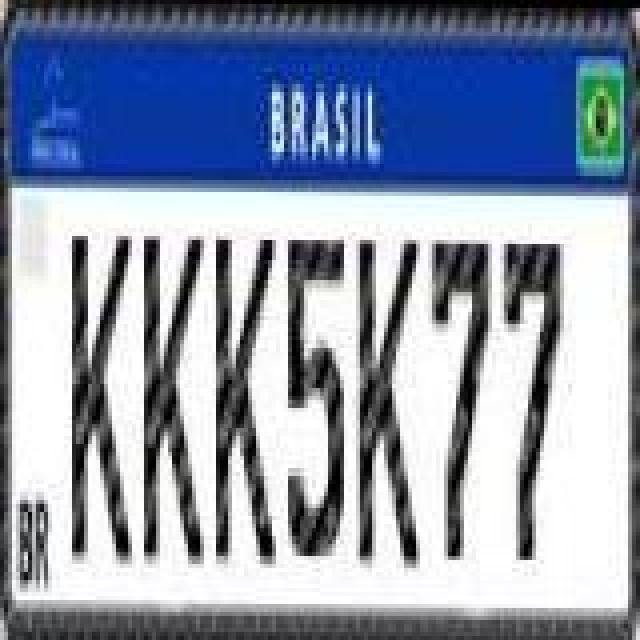5: (286, 234, 346, 558)
7: (428, 236, 492, 560), (500, 236, 564, 560)
K: (72, 234, 136, 570), (216, 226, 280, 562), (356, 228, 420, 564), (144, 240, 208, 564)
